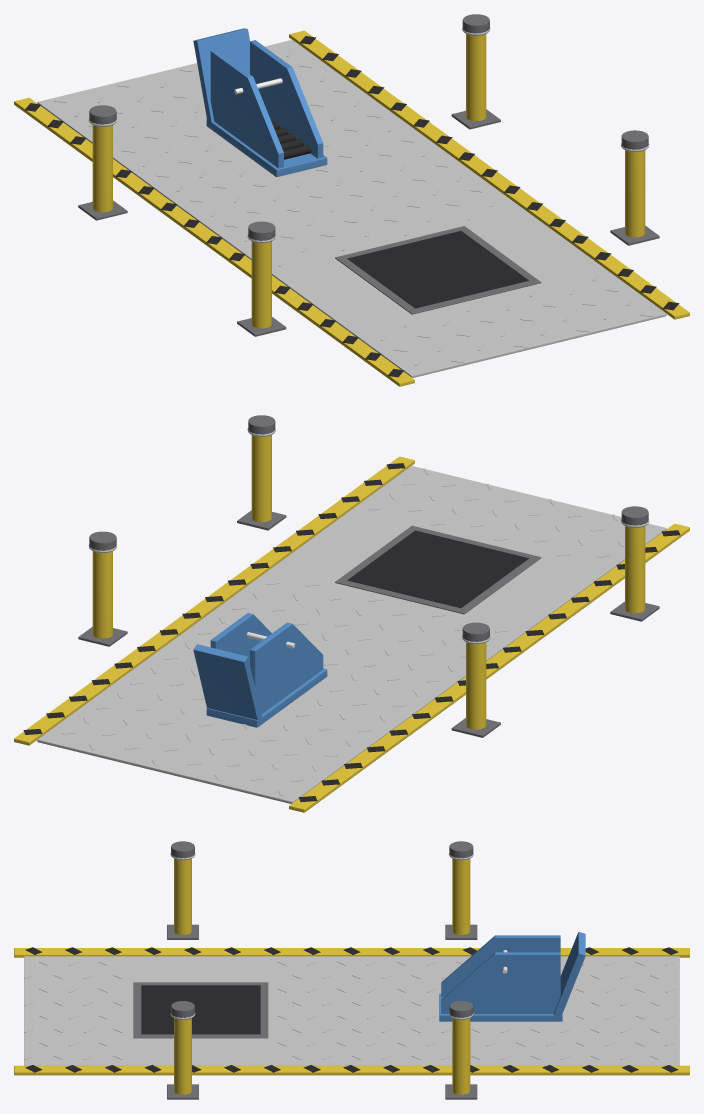
The model's file is dyno_rig.glb.
3 views of the same model, one above another, from view 1: azimuth 30°, elevation 25°; view 2: azimuth 150°, elevation 25°; view 3: azimuth 270°, elevation 25° (orthographic). The views are drawn at different scales.
Parts seen in each view (by area): view 1: SM_dyno_rig; view 2: SM_dyno_rig; view 3: SM_dyno_rig.
Boxes of the visible parts, x1=… form: SM_dyno_rig: x1=14, y1=14, x2=689, y2=386; SM_dyno_rig: x1=14, y1=415, x2=689, y2=812; SM_dyno_rig: x1=14, y1=841, x2=689, y2=1099.
Bounding box in the file's own units: 2.06 × 0.485 × 3.4.
